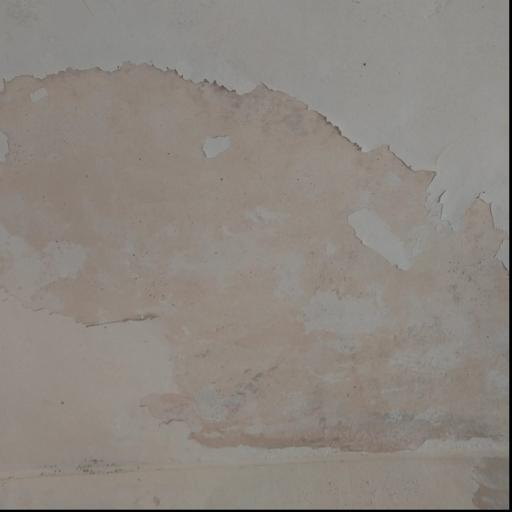peeling: (0, 46, 512, 509)
